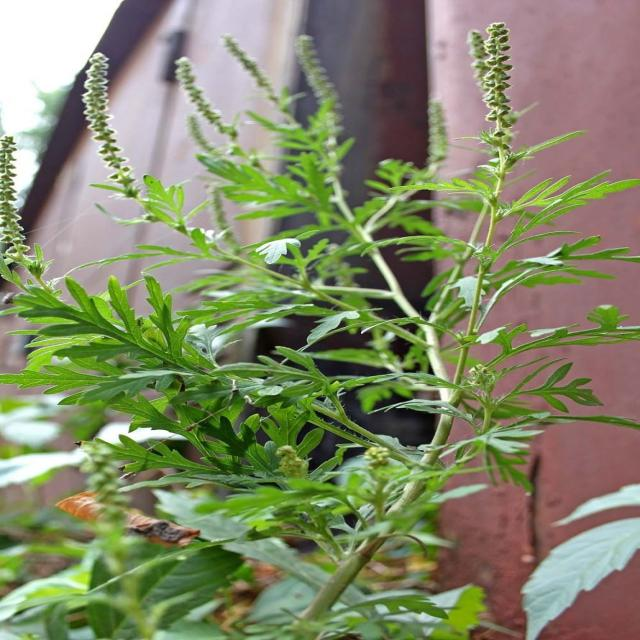ambrosia: (51, 281, 378, 543), (29, 30, 400, 256), (420, 13, 614, 285)
